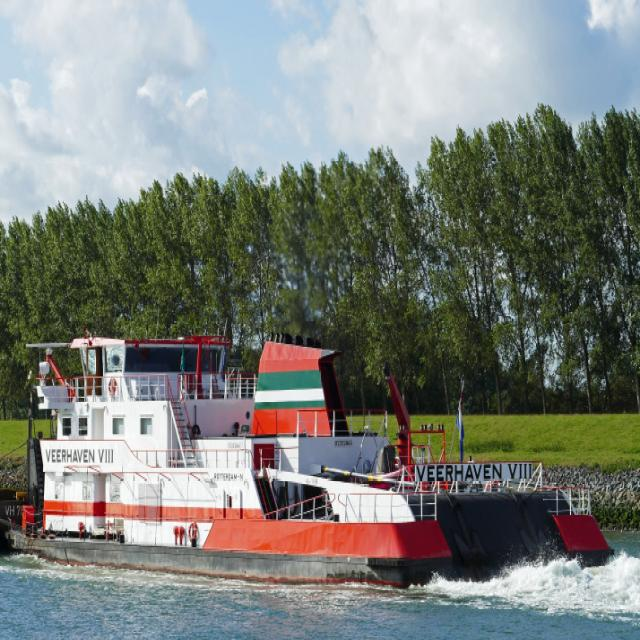tugboat: (5, 328, 621, 609)
